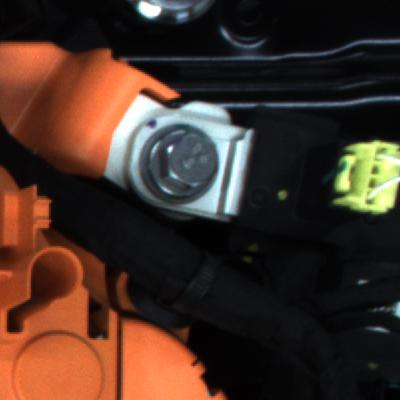nut_b: (134, 117, 223, 205)
